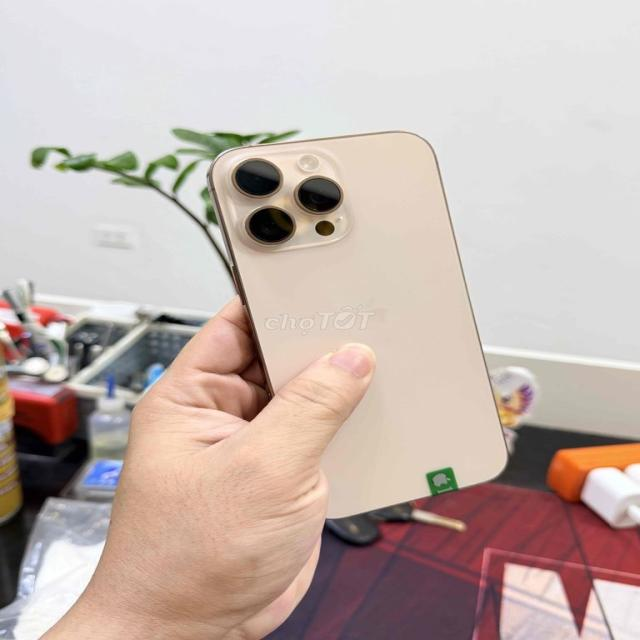gen_16: (208, 132, 508, 518)
